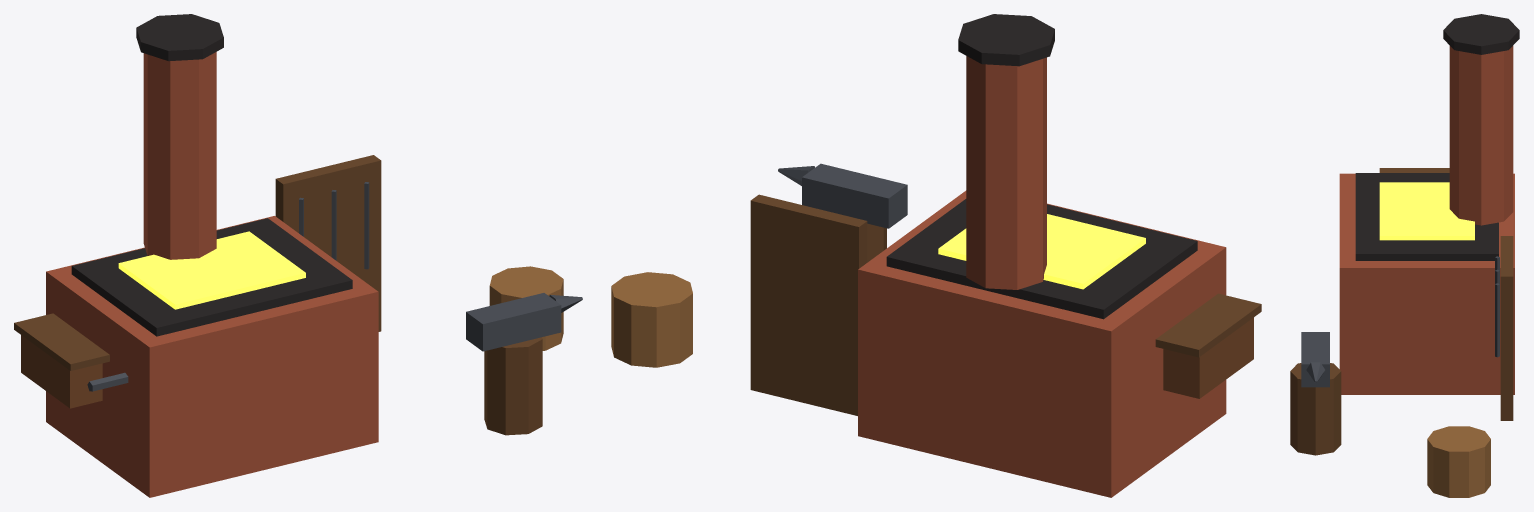
Rendered from Blacksmith.fbx.
3 views of the same model, side by side, from view 1: azimuth 30°, elevation 25°; view 2: azimuth 150°, elevation 25°; view 3: azimuth 270°, elevation 25° (orthographic). The views are drawn at different scales.
Parts seen in each view (by area): view 1: Blacksmith_Body, Blacksmith_Bellows; view 2: Blacksmith_Body, Blacksmith_Bellows; view 3: Blacksmith_Body, Blacksmith_Bellows.
Part boxes in pixels (x1=…): Blacksmith_Body: x1=46, y1=14, x2=582, y2=497; Blacksmith_Bellows: x1=14, y1=313, x2=128, y2=408; Blacksmith_Body: x1=611, y1=14, x2=1226, y2=497; Blacksmith_Bellows: x1=1155, y1=293, x2=1261, y2=398; Blacksmith_Body: x1=1290, y1=14, x2=1519, y2=497; Blacksmith_Bellows: x1=1379, y1=168, x2=1449, y2=172.
Bounding box in the file's own units: 1.64 × 1.1 × 0.72.
